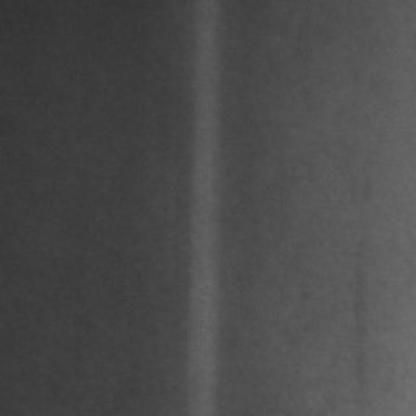scratches: (187, 23, 225, 401)
